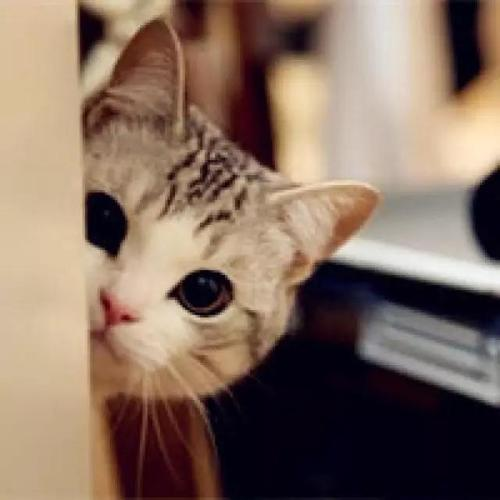cat: (81, 16, 375, 401)
